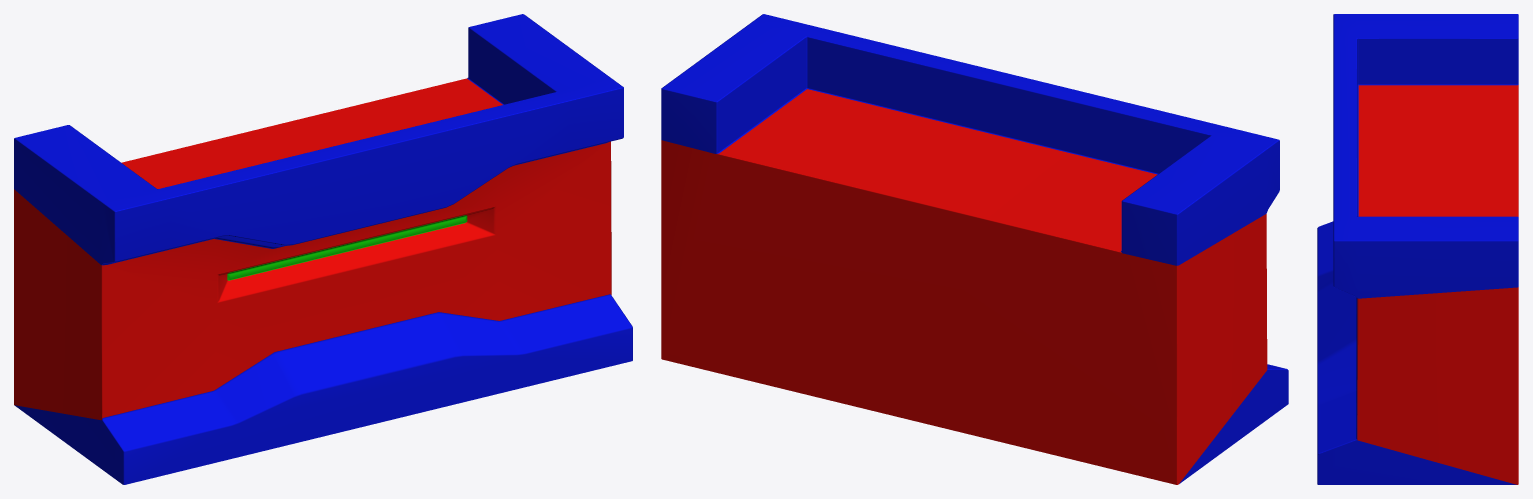
The model's file is Wall_2.fbx.
The picture shows the model from 3 angles, left to right: view 1: azimuth 30°, elevation 25°; view 2: azimuth 150°, elevation 25°; view 3: azimuth 270°, elevation 25°; orthographic projection. The views are drawn at different scales.
Parts seen in each view (by area): view 1: Wall_2; view 2: Wall_2; view 3: Wall_2.
Boxes of the visible parts, x1,y1,x2,y2 form: Wall_2: (14,14,632,484); Wall_2: (661,14,1288,484); Wall_2: (1317,14,1518,484).
Size of the model in its own units: 1000 by 500 by 374.
